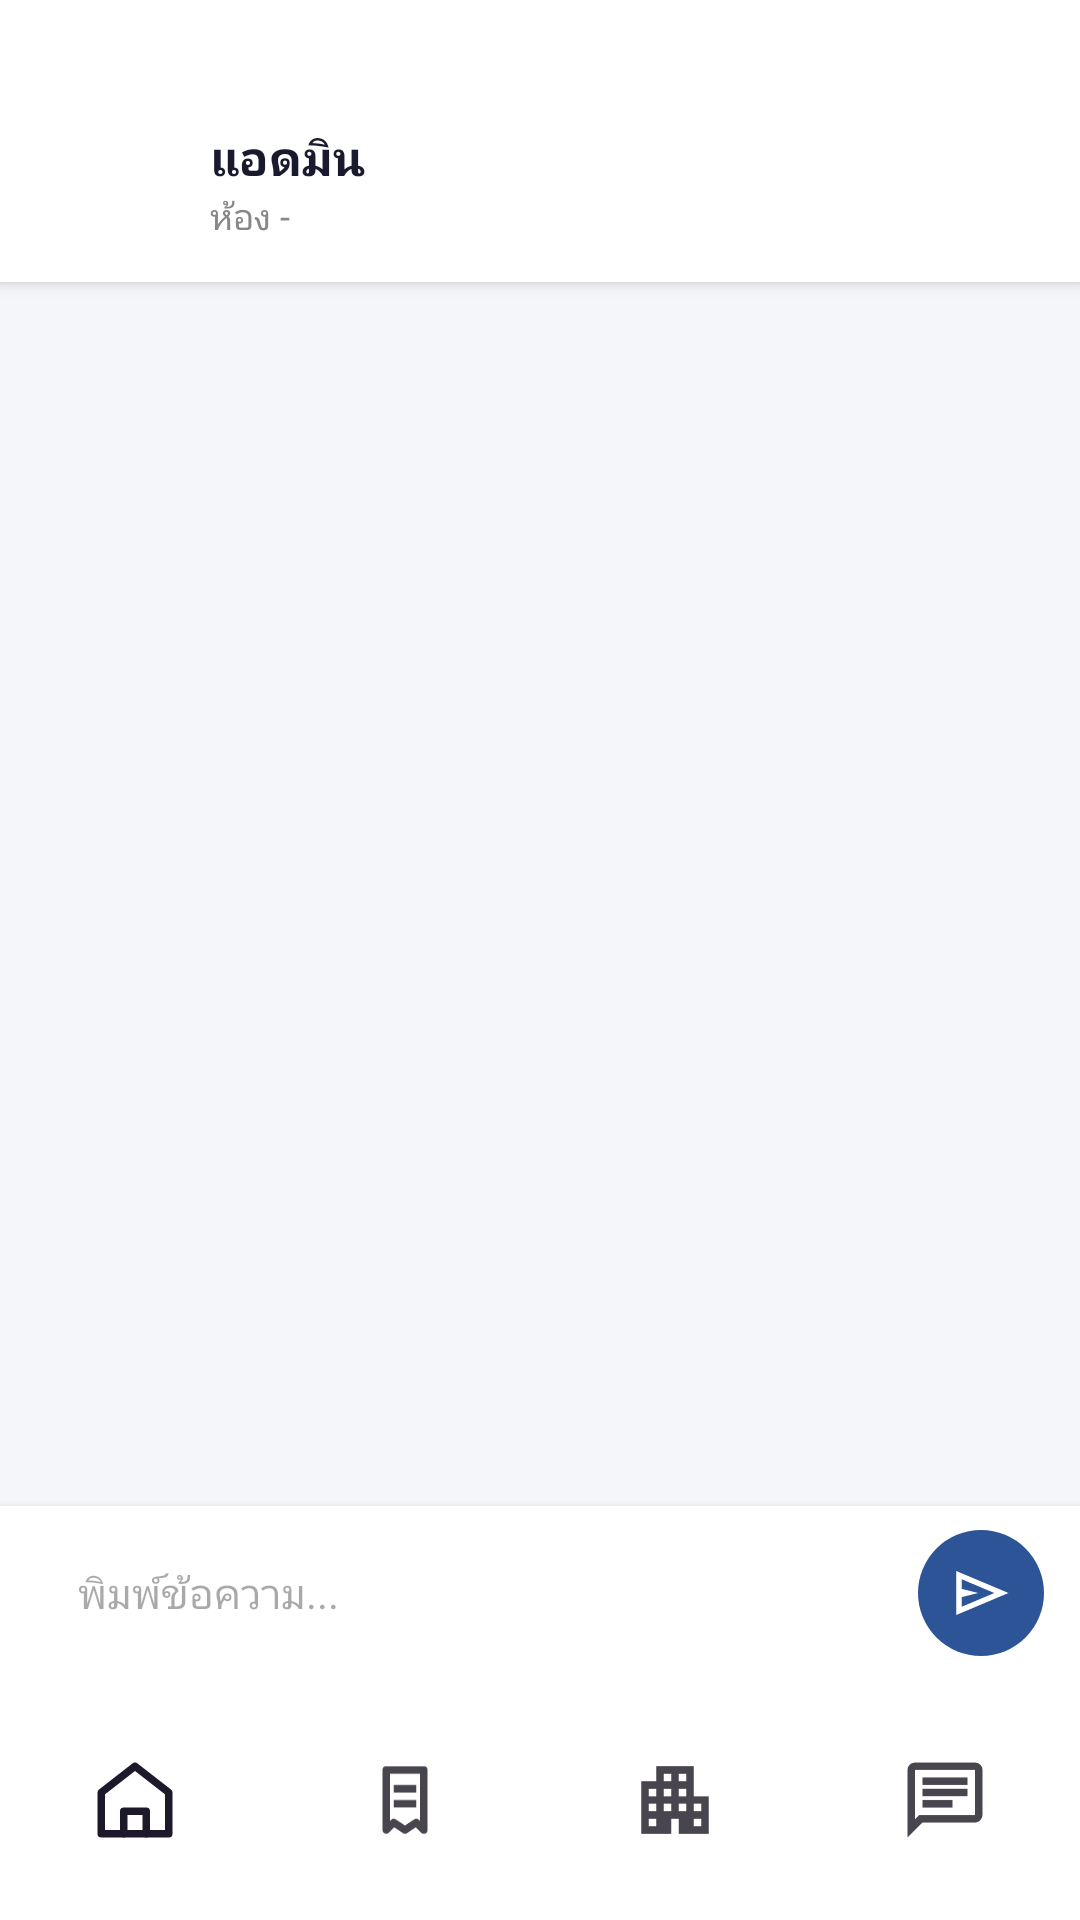

Screen size 1080 x 1920. Icon name, then its center in pixels as point (x, y):
send gg: point (981, 1593)
